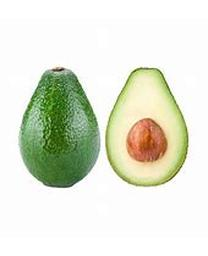avocado: (17, 66, 101, 188), (105, 67, 189, 186)
